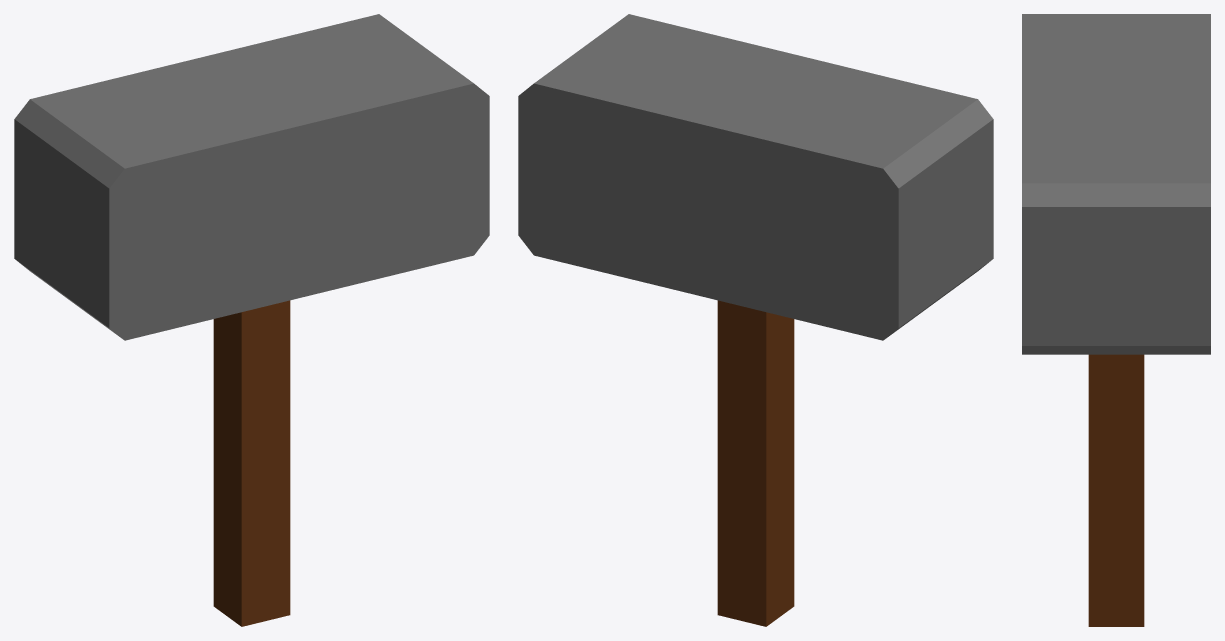
The model's file is hammer.glb.
3 renders of one model, left to right at view 1: azimuth 30°, elevation 25°; view 2: azimuth 150°, elevation 25°; view 3: azimuth 270°, elevation 25°, orthographic.
Parts seen in each view (by area): view 1: Hammer; view 2: Hammer; view 3: Hammer.
Part boxes in pixels (left/top/right/bottom): Hammer: left=14, top=14, right=489, bottom=626; Hammer: left=518, top=14, right=993, bottom=626; Hammer: left=1022, top=14, right=1210, bottom=626.
Bounding box in the file's own units: 0.8008 × 1.05 × 0.3463.
Materials: 2 (1 with a texture image).
